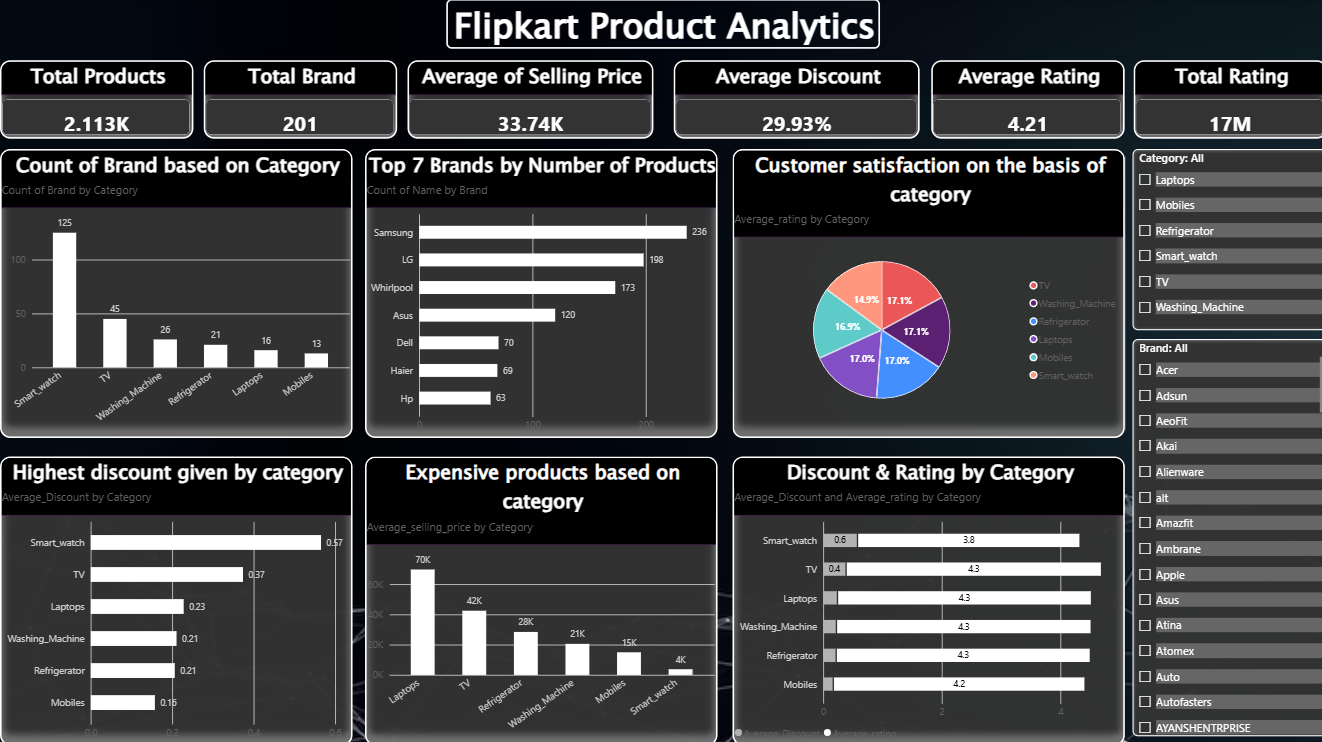

This screenshot's page, from the dashboard's own definition file:
{"tool":"powerbi","page":{"name":"Page 1","canvas":[1920,1080],"ordinal":0},"visuals":[{"type":"cardVisual","title":"Total Products","fields":{"Data":["Flipkart_Master_Dataset.Total_Products"]},"box":[0,88.5,279.9,113.2],"z":0},{"type":"cardVisual","title":"Total Brand","fields":{"Data":["Flipkart_Master_Dataset.Total_Brand"]},"box":[294.3,88.5,279.9,113.2],"z":1000},{"type":"cardVisual","title":"Average of Selling Price","fields":{"Data":["Flipkart_Master_Dataset.Average_selling_price"]},"box":[590.7,88.5,356.1,113.2],"z":2000},{"type":"cardVisual","title":"Average Discount","fields":{"Data":["Flipkart_Master_Dataset.Average_Discount"]},"box":[975.6,88.5,356.1,113.2],"z":3000},{"type":"cardVisual","title":"Average Rating","fields":{"Data":["Flipkart_Master_Dataset.Average_rating"]},"box":[1348.2,88.5,279.9,113.2],"z":4000},{"type":"cardVisual","title":"Total Rating","fields":{"Data":["Flipkart_Master_Dataset.Total_ratings"]},"box":[1640.5,88.5,279.9,113.2],"z":5000},{"type":"textbox","title":" Flipkart Product Analytics","box":[646.3,0,627.8,72],"z":6000},{"type":"columnChart","title":"Count of Brand based on Category","fields":{"Category":["Flipkart_Master_Dataset.Category"],"Y":["Count(Flipkart_Master_Dataset.Brand)"]},"box":[0,217.2,510.3,418],"z":7000},{"type":"barChart","title":"Top 7 Brands by Number of Products","fields":{"Category":["Flipkart_Master_Dataset.Brand"],"Y":["CountNonNull(Flipkart_Master_Dataset.Name)"]},"box":[528.4,217.2,510.3,418],"z":8000},{"type":"barChart","title":"Highest discount given by category","fields":{"Category":["Flipkart_Master_Dataset.Category"],"Y":["Flipkart_Master_Dataset.Average_Discount"]},"box":[0,662.3,510.3,418],"z":9000},{"type":"clusteredBarChart","title":"Customer satisfaction on the basis of category","fields":{"Category":["Flipkart_Master_Dataset.Category"],"Y":["Flipkart_Master_Dataset.Average_rating"]},"box":[1060.5,217.2,568.2,418],"z":10000},{"type":"columnChart","title":"Average Selling Price by Category","fields":{"Category":["Flipkart_Master_Dataset.Category"],"Y":["Flipkart_Master_Dataset.Average_selling_price"]},"box":[528.4,662.3,510.3,418],"z":11000},{"type":"scatterChart","title":"Discount & Rating by Category","fields":{"Category":["Flipkart_Master_Dataset.Category"],"X":["Flipkart_Master_Dataset.Average_Discount"],"Y":["Flipkart_Master_Dataset.Average_rating"]},"box":[1060.5,662.3,568.2,418],"z":12000},{"type":"slicer","fields":{"Values":["Flipkart_Master_Dataset.Category"]},"box":[1639.6,217.2,280.5,262.4],"z":13000},{"type":"slicer","fields":{"Values":["Flipkart_Master_Dataset.Brand"]},"box":[1639.6,492.2,280.5,575.5],"z":14000},{"type":"actionButton","box":[1858.7,0,61.7,57.6],"z":15000},{"type":"image","box":[0,0,204,72],"z":16000}]}

Visuals, with their boxes in screenshot pixels (x1, y1, x2, y2), scaled from the page's 1920x1080 canvas onto the 1322x742 screenshot:
"Total Products" cardVisual: <region>0, 61, 193, 139</region>
"Total Brand" cardVisual: <region>203, 61, 395, 139</region>
"Average of Selling Price" cardVisual: <region>407, 61, 652, 139</region>
"Average Discount" cardVisual: <region>672, 61, 917, 139</region>
"Average Rating" cardVisual: <region>928, 61, 1121, 139</region>
"Total Rating" cardVisual: <region>1130, 61, 1321, 139</region>
" Flipkart Product Analytics" textbox: <region>445, 0, 877, 49</region>
"Count of Brand based on Category" columnChart: <region>0, 149, 351, 436</region>
"Top 7 Brands by Number of Products" barChart: <region>364, 149, 715, 436</region>
"Highest discount given by category" barChart: <region>0, 455, 351, 741</region>
"Customer satisfaction on the basis of category" clusteredBarChart: <region>730, 149, 1121, 436</region>
"Average Selling Price by Category" columnChart: <region>364, 455, 715, 741</region>
"Discount & Rating by Category" scatterChart: <region>730, 455, 1121, 741</region>
slicer - Flipkart_Master_Dataset.Category: <region>1129, 149, 1321, 330</region>
slicer - Flipkart_Master_Dataset.Brand: <region>1129, 338, 1321, 734</region>
actionButton: <region>1280, 0, 1321, 40</region>
image: <region>0, 0, 140, 49</region>
